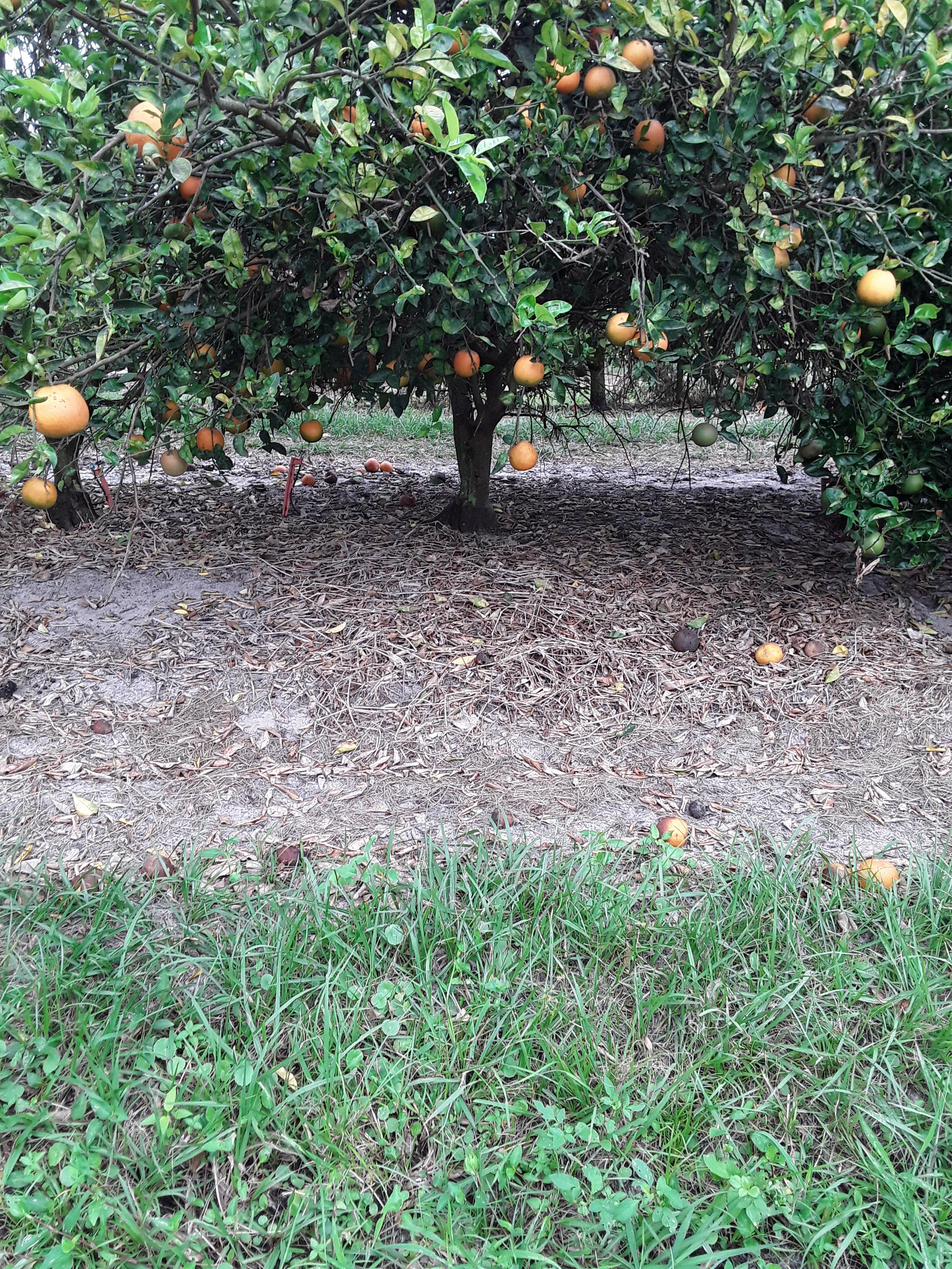fruit_on_ground: (121, 100, 191, 163), (27, 382, 90, 442), (855, 266, 900, 308), (541, 53, 582, 95), (816, 13, 856, 51), (326, 103, 367, 139), (178, 17, 221, 51), (19, 475, 60, 510), (630, 117, 668, 154), (603, 309, 640, 346), (440, 26, 481, 59), (632, 326, 671, 360), (514, 98, 554, 131), (185, 201, 227, 232), (583, 63, 618, 100), (620, 37, 657, 71), (380, 355, 414, 391), (405, 112, 443, 144), (161, 211, 197, 244), (800, 93, 836, 126), (324, 201, 362, 232), (511, 353, 545, 387), (115, 243, 150, 276), (268, 205, 306, 235), (556, 175, 591, 206), (623, 177, 658, 208), (584, 22, 618, 53), (327, 312, 358, 346), (507, 439, 539, 471), (451, 346, 482, 379), (857, 310, 891, 340), (856, 529, 888, 560), (765, 162, 799, 191), (158, 448, 189, 479), (578, 114, 611, 143), (236, 253, 269, 282), (221, 405, 252, 435), (194, 424, 225, 454), (177, 172, 207, 202), (151, 291, 182, 320), (186, 340, 218, 368), (575, 0, 621, 19), (414, 348, 443, 378), (123, 431, 153, 460), (690, 419, 719, 447), (765, 245, 793, 273), (156, 397, 185, 424), (472, 96, 503, 121), (228, 378, 256, 404), (797, 437, 825, 463), (898, 470, 926, 496), (298, 418, 326, 444), (261, 355, 288, 379), (173, 312, 201, 335), (354, 352, 379, 377), (562, 262, 587, 286), (332, 362, 355, 386), (387, 0, 420, 12), (1, 0, 26, 14)
fruit_on_tree: (852, 855, 900, 894), (654, 814, 691, 851), (139, 848, 177, 881), (669, 627, 702, 654), (822, 858, 852, 887), (753, 640, 784, 667), (274, 843, 303, 868), (683, 797, 709, 821), (489, 807, 514, 831), (89, 717, 114, 738), (802, 640, 826, 660), (2, 678, 20, 700), (398, 491, 419, 509), (268, 463, 289, 478), (363, 456, 381, 472), (428, 470, 447, 485), (378, 458, 395, 474), (300, 472, 317, 487), (324, 470, 339, 485)
